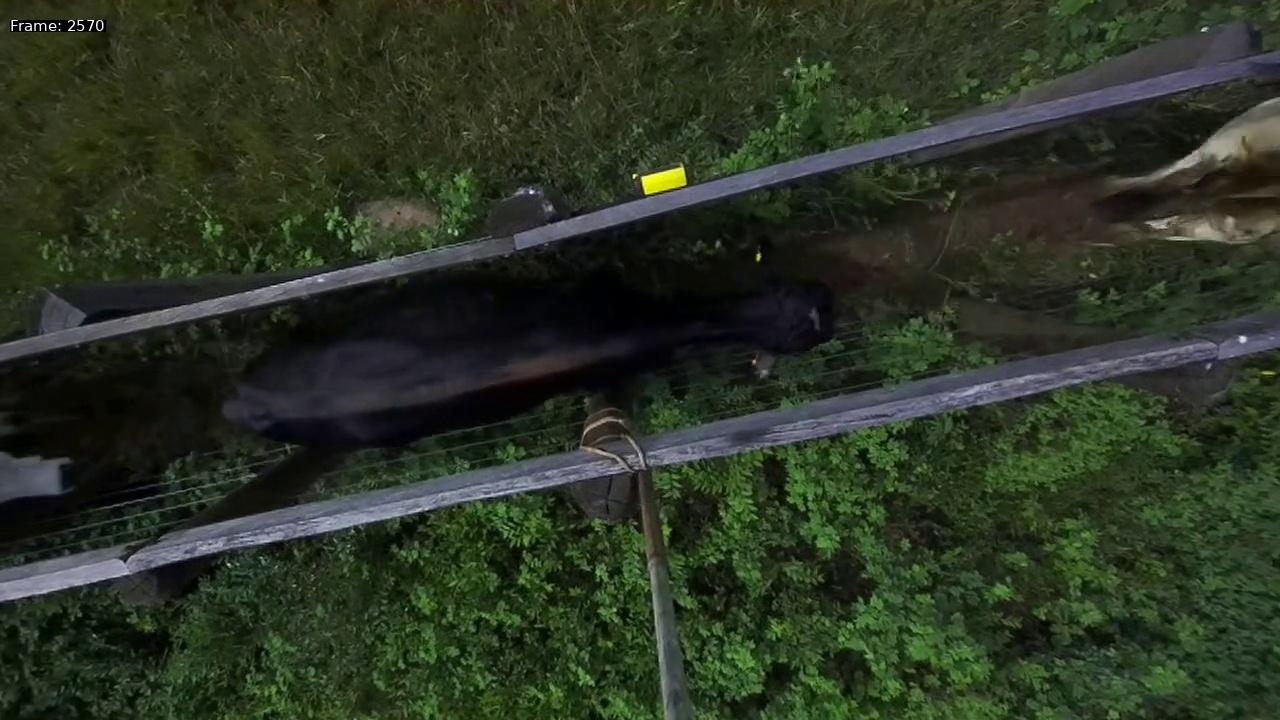cattle: (212, 194, 841, 454)
